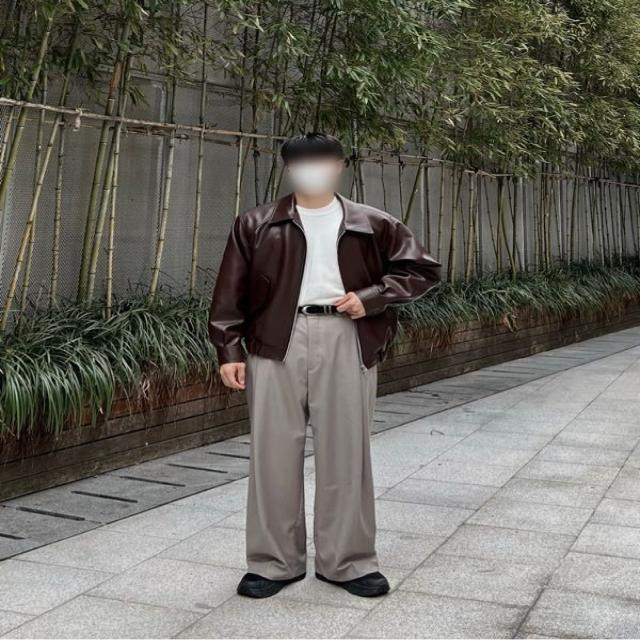jacket: (209, 191, 442, 370)
slacks: (241, 303, 377, 579)
